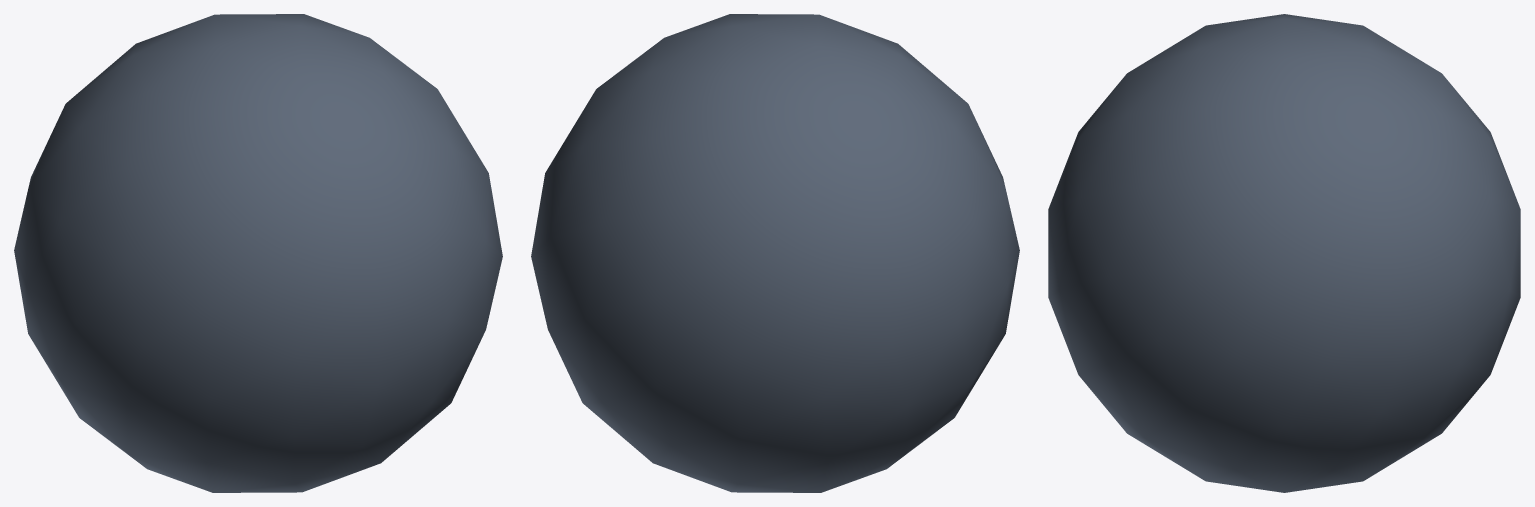
File: boulder_mossy.glb
3 views of the same model, side by side, from view 1: azimuth 30°, elevation 25°; view 2: azimuth 150°, elevation 25°; view 3: azimuth 270°, elevation 25° (orthographic).
Visible parts, largest first — view 1: Mossy_Boulder; view 2: Mossy_Boulder; view 3: Mossy_Boulder.
Boxes of the visible parts, x1=… form: Mossy_Boulder: x1=14, y1=14, x2=502, y2=492; Mossy_Boulder: x1=531, y1=14, x2=1019, y2=492; Mossy_Boulder: x1=1048, y1=14, x2=1520, y2=492.
Bounding box in the file's own units: 1.96 × 1.96 × 1.96.
